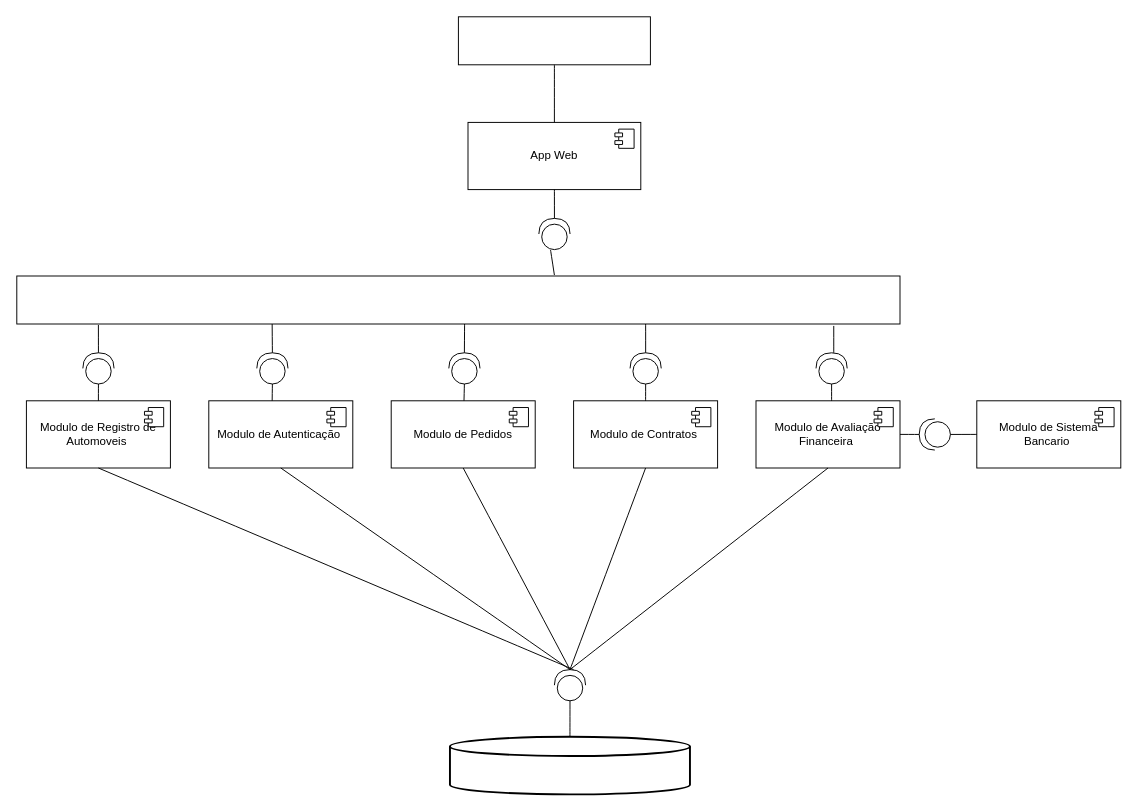
Image size: 1138x812. Some labels were removed from this diagram. Each missing label, with the centre of its shape:
"Api Web" goes at (x=458, y=299).
"Banco de Dados" goes at (x=569, y=765).
"Navegador Cliente" goes at (x=553, y=40).
